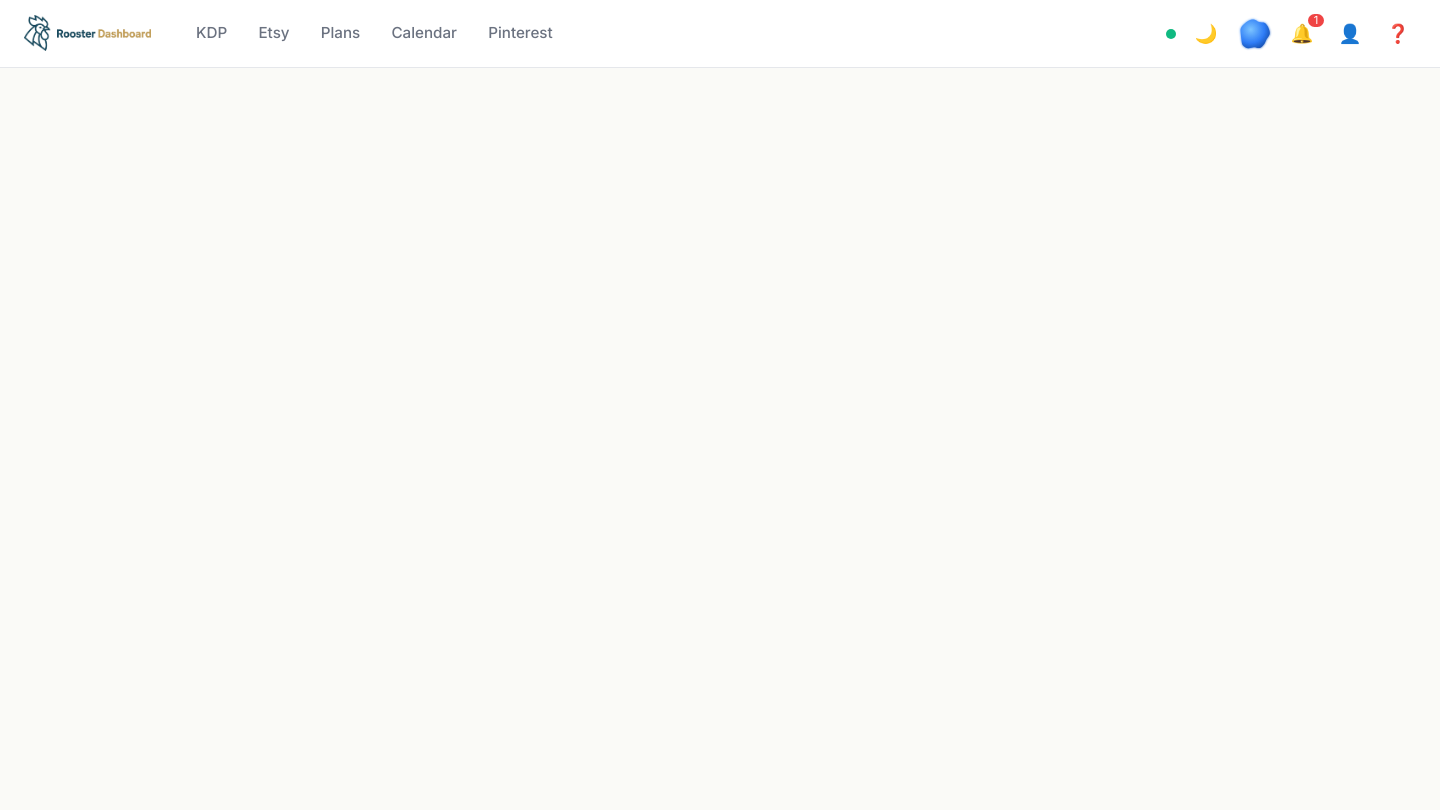
it: Header › clicking the bell opens the popover
Check: the dialog "pending reminders" is not shown
Click the button named "1 pending reminders" at (1302, 34), box left=1284, top=16, right=1320, bottom=52
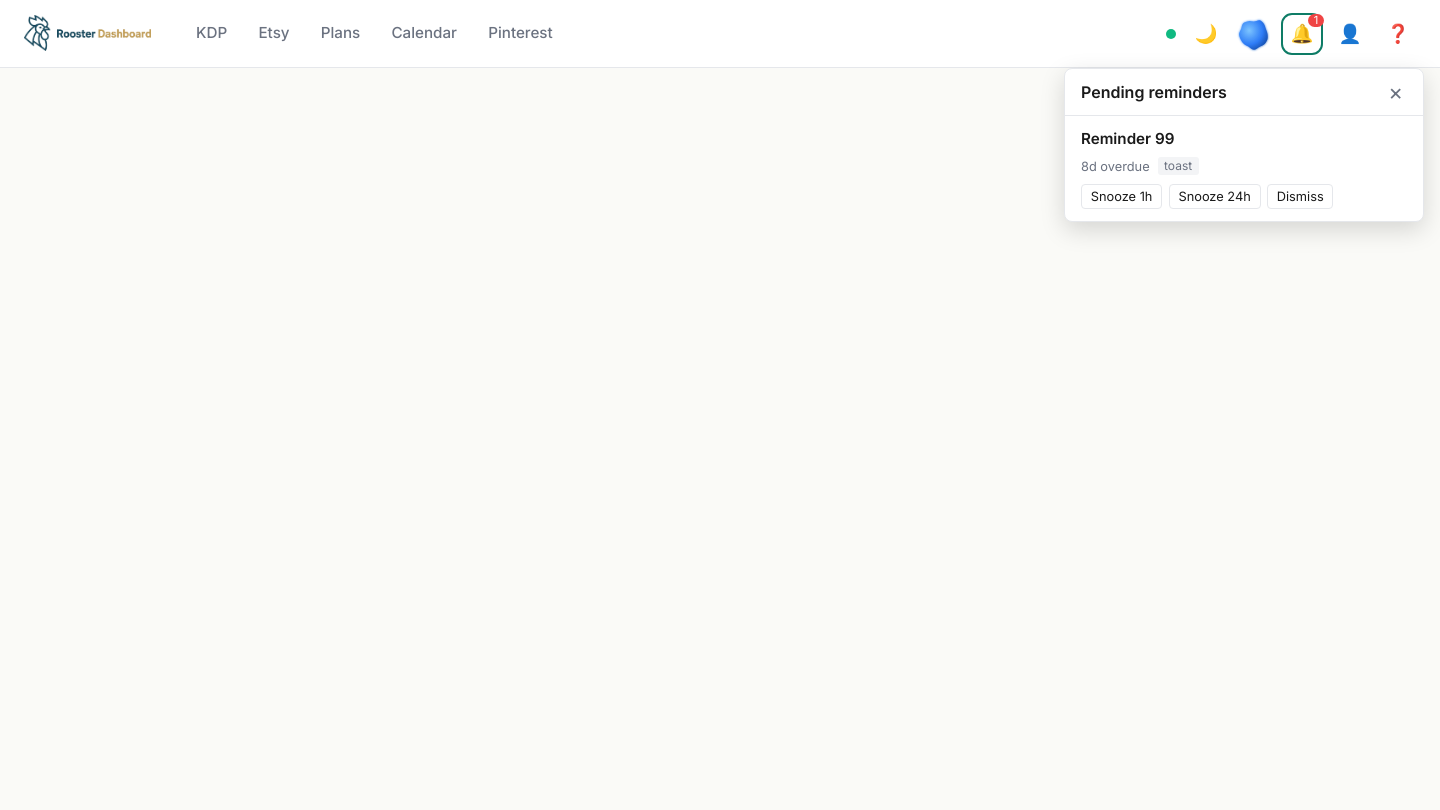
Check: the dialog "Pending reminders" is shown, box left=1064, top=68, right=1424, bottom=222
